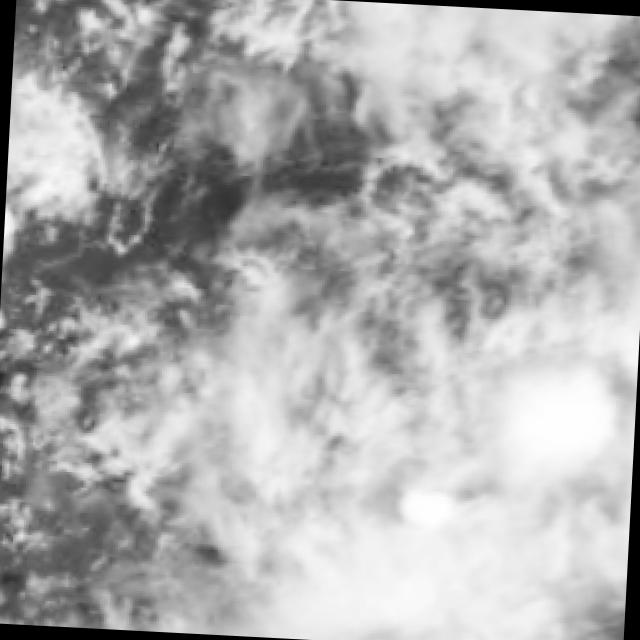CB: (272, 502, 541, 640)
